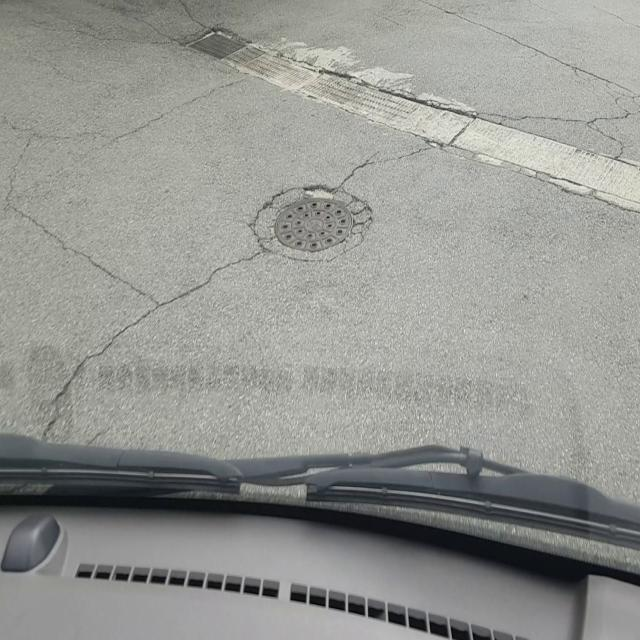Pothole: (240, 178, 379, 266)
